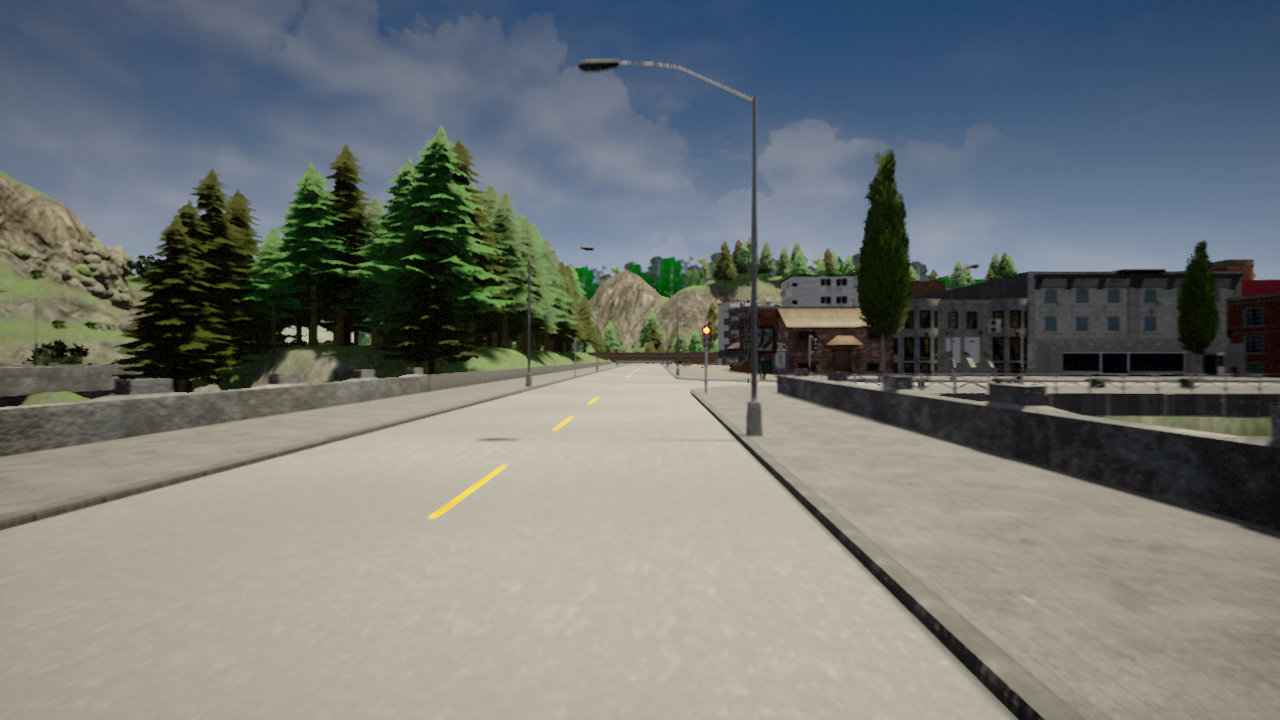red: (700, 325, 711, 349)
